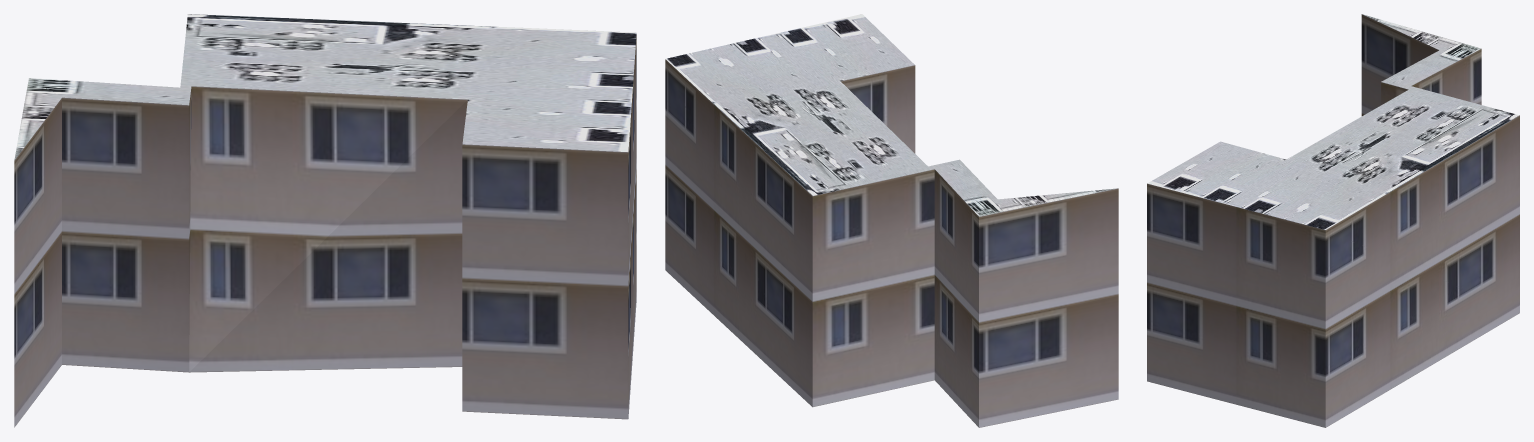
File: ResTex__4475.fbx
The picture shows the model from 3 angles, left to right: view 1: azimuth 30°, elevation 25°; view 2: azimuth 150°, elevation 25°; view 3: azimuth 270°, elevation 25°; orthographic projection. The views are drawn at different scales.
Parts seen in each view (by area): view 1: CityEngineMaterial_21_m, CityEngineMaterial_m; view 2: CityEngineMaterial_21_m, CityEngineMaterial_m; view 3: CityEngineMaterial_21_m, CityEngineMaterial_m.
Boxes of the visible parts, bbox=[...] form: CityEngineMaterial_21_m: bbox=[14, 36, 636, 427]; CityEngineMaterial_m: bbox=[14, 14, 636, 159]; CityEngineMaterial_21_m: bbox=[665, 59, 1118, 427]; CityEngineMaterial_m: bbox=[665, 14, 1117, 216]; CityEngineMaterial_21_m: bbox=[1147, 14, 1519, 427]; CityEngineMaterial_m: bbox=[1147, 14, 1519, 229].
Size of the model in its own units: 14.05 by 6 by 10.24.
2 materials, 2 textured.
